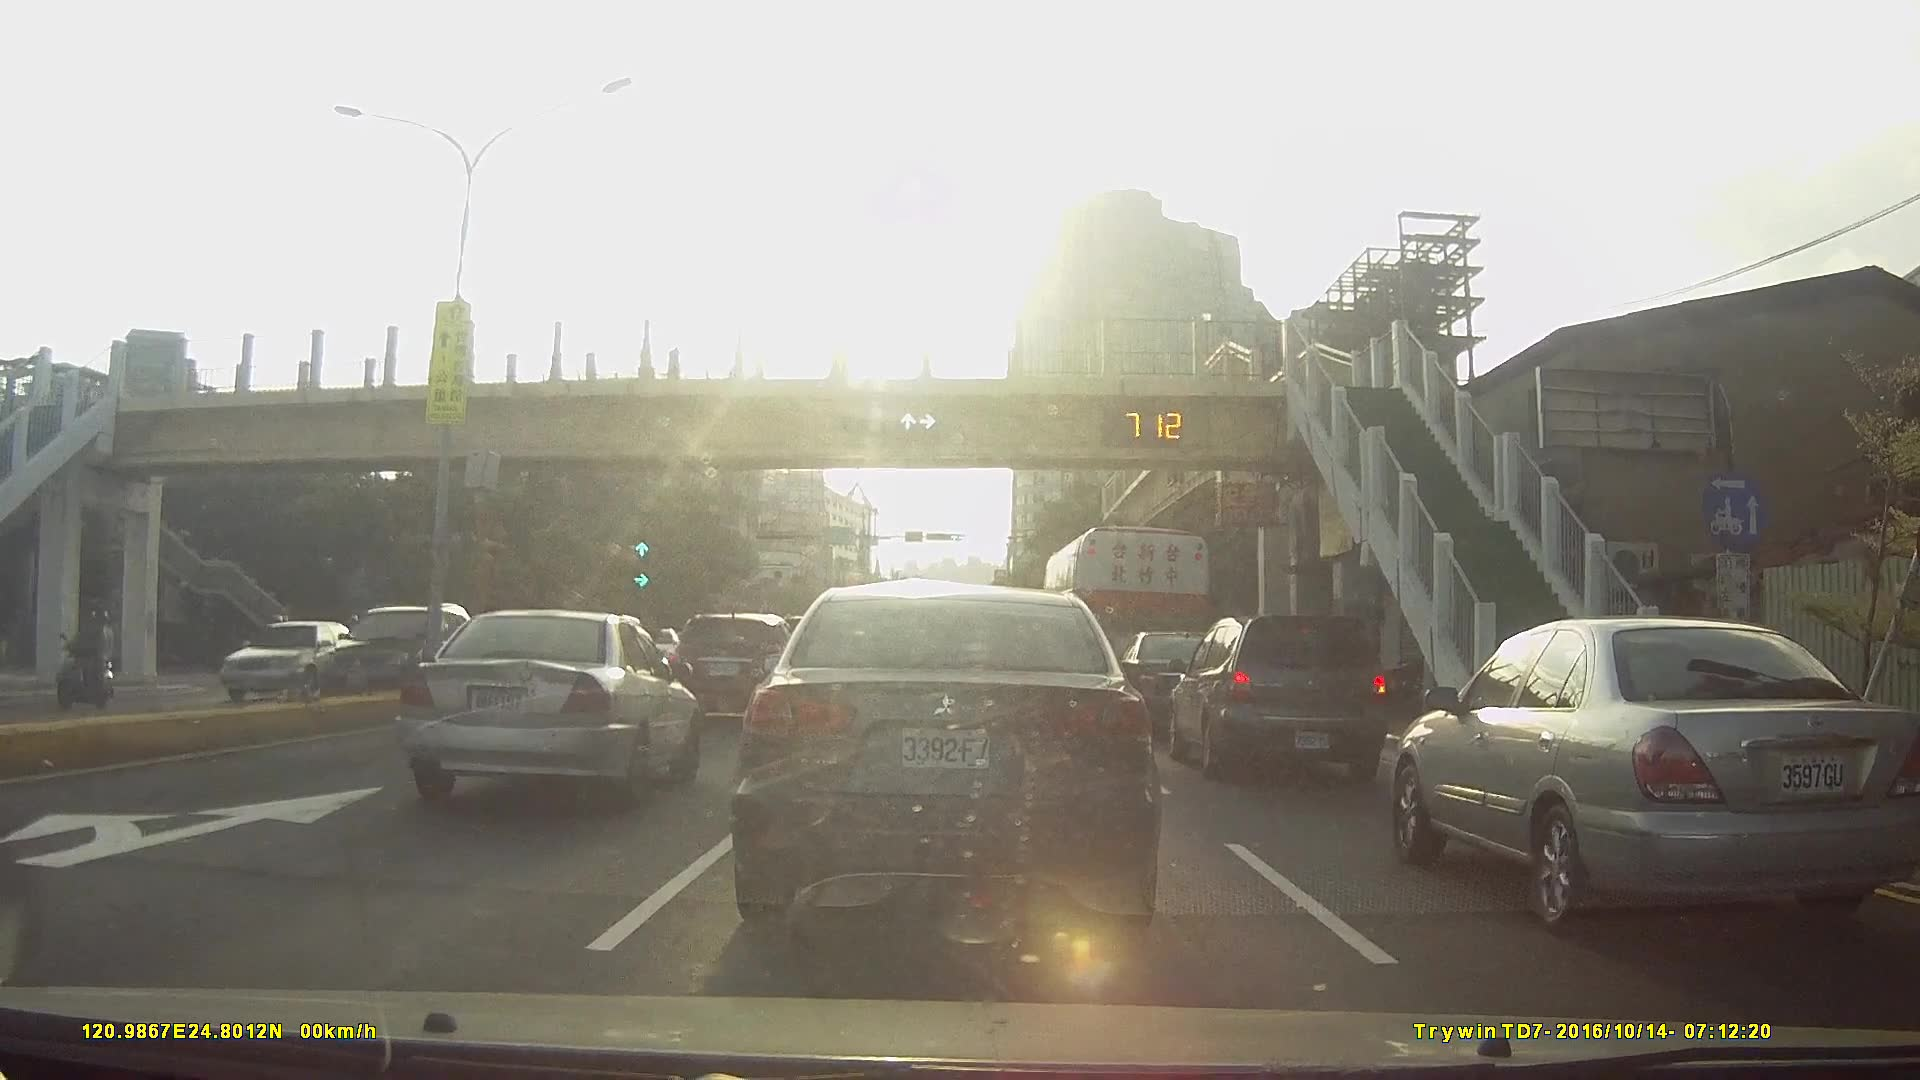rider: (56, 609, 120, 709)
vehicle: (1397, 613, 1920, 936), (727, 573, 1166, 954), (399, 604, 702, 795), (1169, 610, 1406, 783), (314, 596, 508, 718), (666, 607, 802, 720), (198, 619, 371, 707), (1116, 629, 1248, 732)
